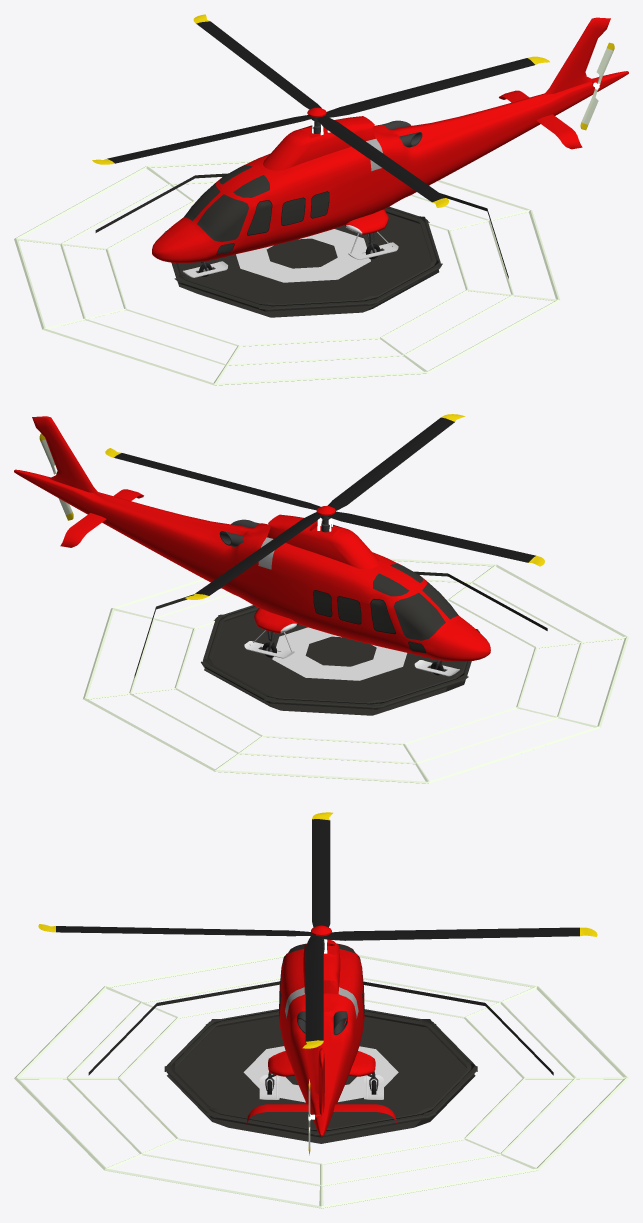
Rendered from helicopter_vip_pro_no9.gltf.
3 renders of one model, top to bottom at view 1: azimuth 30°, elevation 25°; view 2: azimuth 150°, elevation 25°; view 3: azimuth 270°, elevation 25°, orthographic. The views are drawn at different scales.
Parts seen in each view (by area): view 1: Cube, Cylinder.005, Cylinder.006, Cylinder.003, Cube.001, Cube.004, Cylinder.002; view 2: Cube, Cylinder.005, Cylinder.006, Cylinder.003, Cube.001, Cube.004; view 3: Cylinder.005, Cylinder.006, Cube, Cylinder.003, Cube.004, Cube.001, Cube.007.
Part boxes in pixels (<box>): Cube: <box>152,17,628,263</box>; Cylinder.005: <box>95,173,508,317</box>; Cylinder.006: <box>14,160,560,385</box>; Cylinder.003: <box>92,14,549,207</box>; Cube.001: <box>499,90,582,149</box>; Cube.004: <box>344,209,388,234</box>; Cylinder.002: <box>580,42,614,130</box>; Cube: <box>14,416,490,661</box>; Cylinder.005: <box>134,571,547,715</box>; Cylinder.006: <box>83,558,628,783</box>; Cylinder.003: <box>105,414,544,599</box>; Cube.001: <box>60,489,143,547</box>; Cube.004: <box>254,608,298,633</box>; Cylinder.005: <box>88,981,553,1143</box>; Cylinder.006: <box>14,954,628,1208</box>; Cube: <box>279,939,364,1136</box>; Cylinder.003: <box>38,812,597,1048</box>; Cube.004: <box>268,1051,375,1076</box>; Cube.001: <box>246,1104,397,1124</box>; Cube.007: <box>259,1074,383,1099</box>.
Size of what is drawn, in the model's own units: 11.52 by 3.35 by 9.62.
